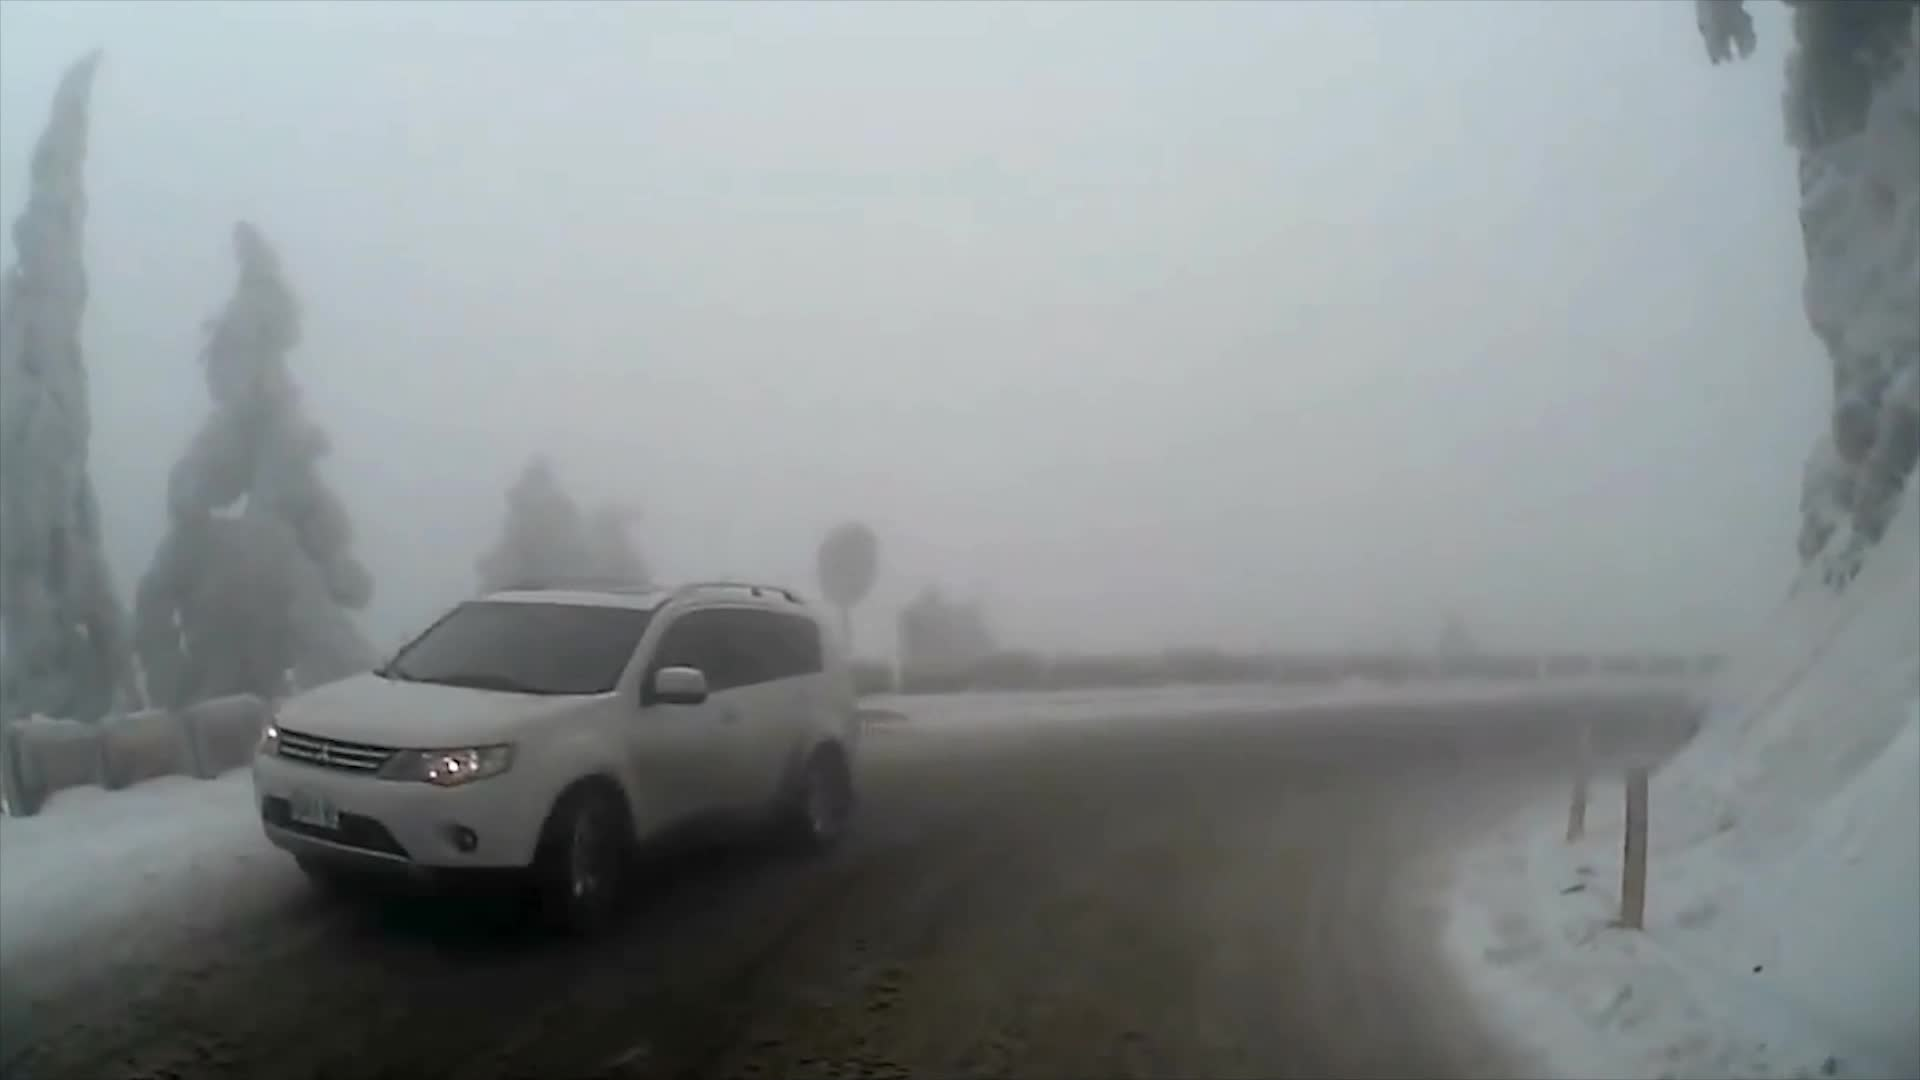vehicle: (247, 575, 858, 947)
